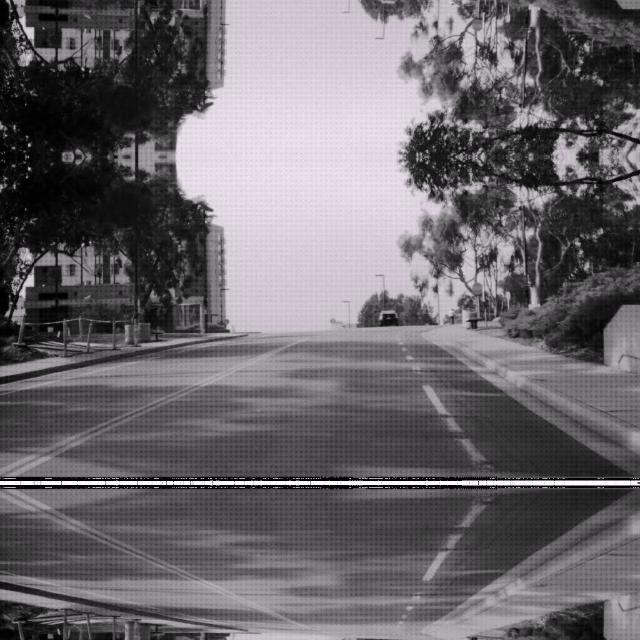stop: (472, 280, 482, 292), (472, 20, 482, 32)
